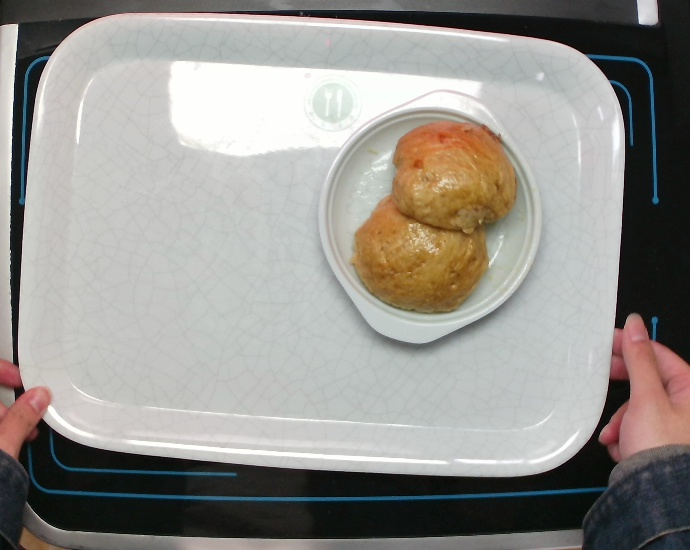JYsf-Shuang_Er_Pan: (312, 85, 548, 348)
